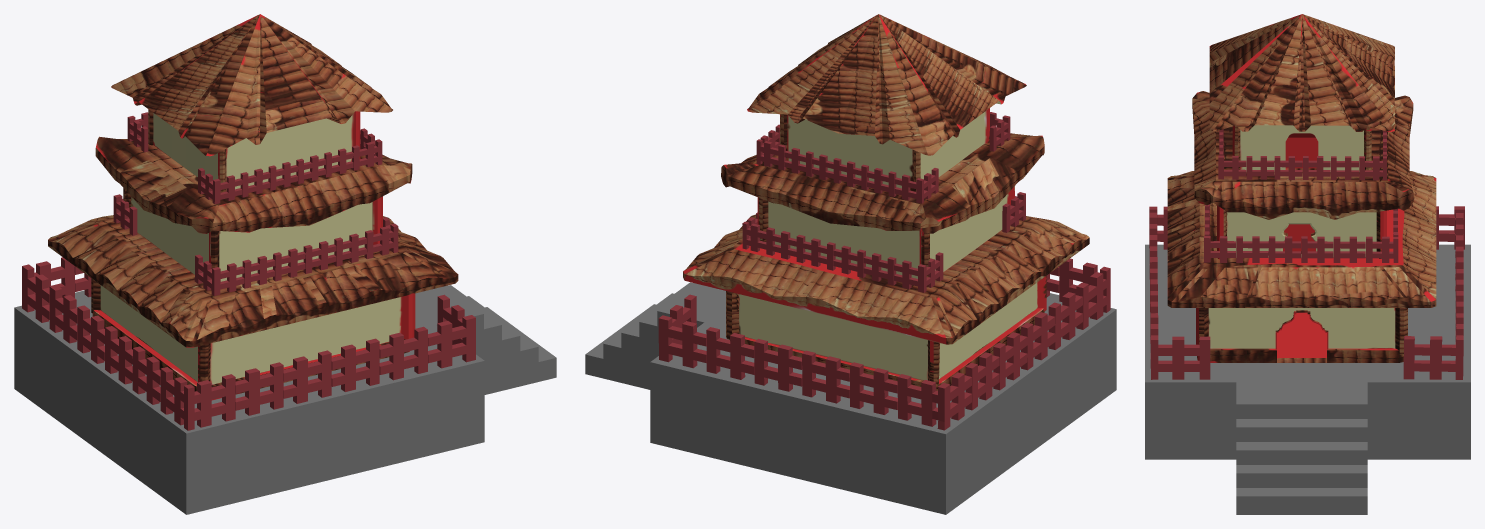
The model's file is AssetsWt.fbx.
3 views of the same model, side by side, from view 1: azimuth 30°, elevation 25°; view 2: azimuth 150°, elevation 25°; view 3: azimuth 270°, elevation 25° (orthographic). The views are drawn at different scales.
Parts seen in each view (by area): view 1: Cube.002; view 2: Cube.002; view 3: Cube.002.
Boxes of the visible parts, <box> form: Cube.002: <box>14,14,556,514</box>; Cube.002: <box>585,14,1116,514</box>; Cube.002: <box>1145,14,1470,514</box>.
Bounding box in the file's own units: 696 × 639 × 496.
